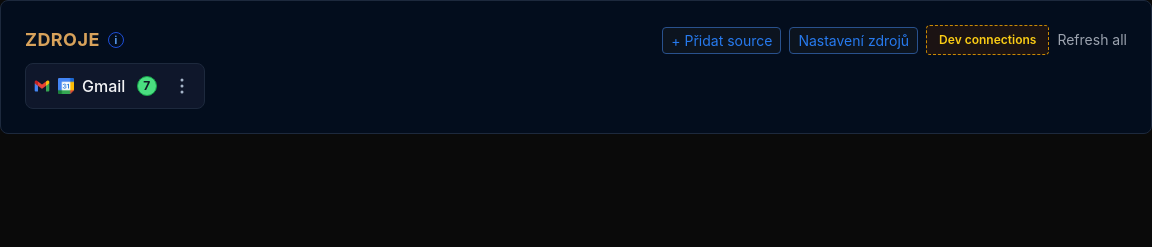
Test: SourcesSection › does not open the preview modal when the Actions menu is clicked
The image size is (1152, 247).
expect the text "Gmail" is shown: met, box x1=82 y1=74 x2=125 y2=98
Click the button named "Actions".
click(182, 86)  # box x1=168 y1=72 x2=196 y2=100
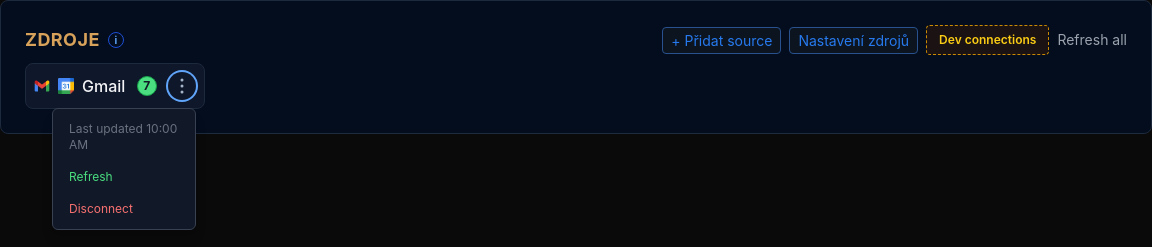
expect the button with aria-label "Disconnect Gmail" is shown: met, box x1=53 y1=193 x2=195 y2=225
